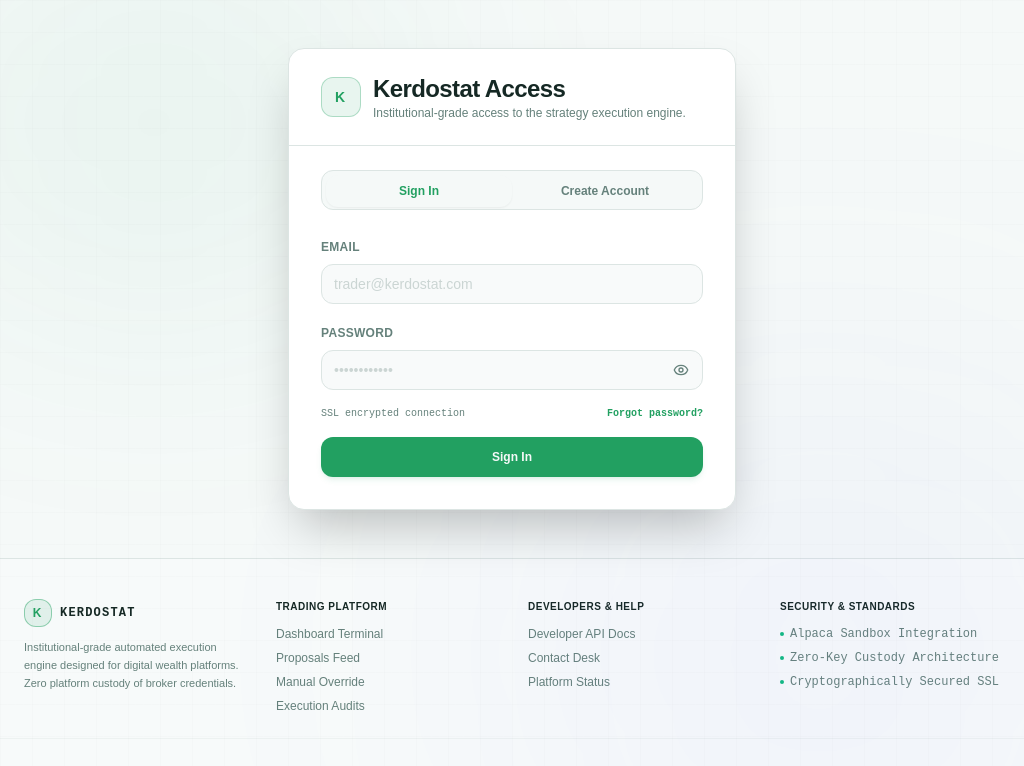
Test case: AuthCard Component Form Validation › should show validation errors when signing in with empty inputs
Click the button "Sign In" at (512, 457), box [321, 437, 703, 477]
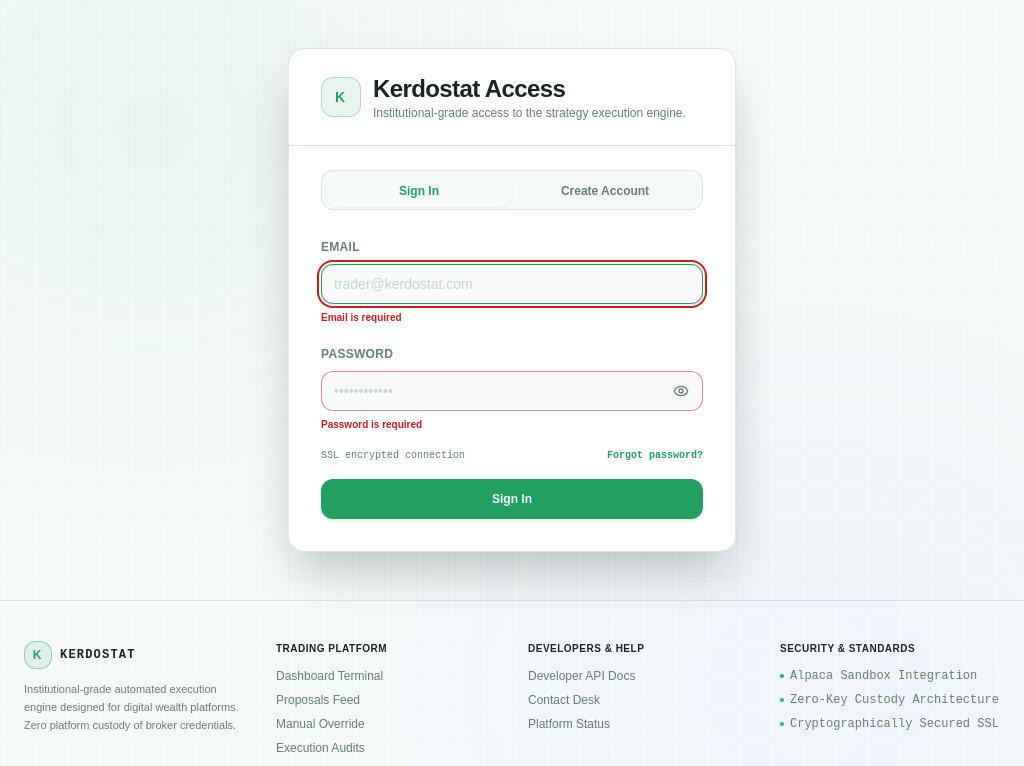
Now the text "Email is required" is shown, box [321, 312, 402, 323]
Now the text "Password is required" is shown, box [321, 419, 422, 430]
